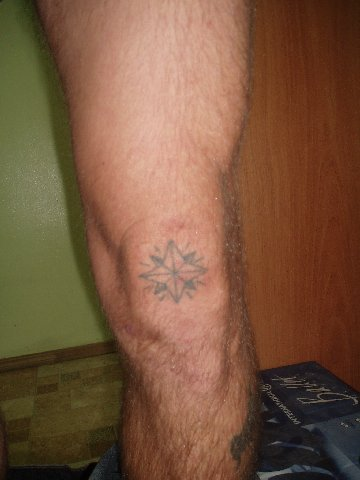tatu4_zvezda: (140, 242, 206, 302)
